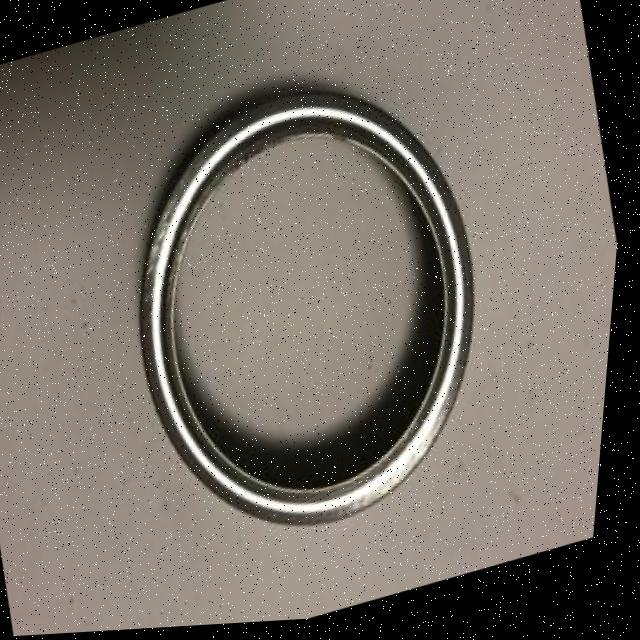metal: (70, 37, 547, 584)
